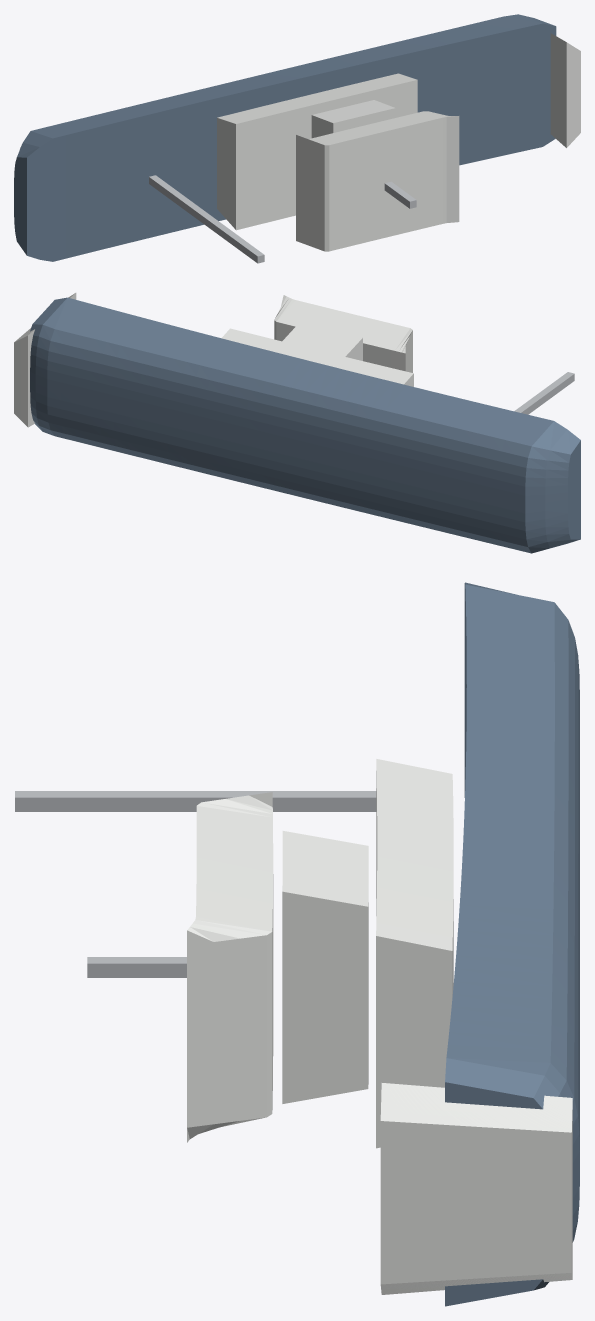
The model's file is loft-pusher-slender.glb.
The picture shows the model from 3 angles, top to bottom: view 1: azimuth 30°, elevation 25°; view 2: azimuth 150°, elevation 25°; view 3: azimuth 270°, elevation 25°; orthographic projection. The views are drawn at different scales.
Visible parts, largest first — view 1: loft-pusher-slender; view 2: loft-pusher-slender; view 3: loft-pusher-slender.
Boxes of the visible parts, <box> form: loft-pusher-slender: <box>14,14,580,263</box>; loft-pusher-slender: <box>14,293,580,553</box>; loft-pusher-slender: <box>15,582,579,1306</box>.
Size of the model in its own units: 1.88 by 0.416 by 0.8624.
